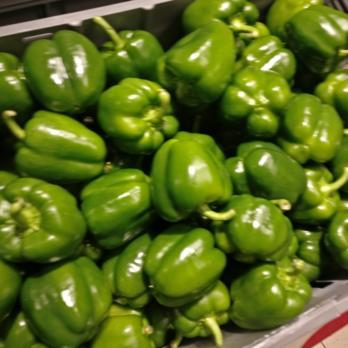Capsicum: (1, 44, 229, 338), (181, 6, 348, 323)
